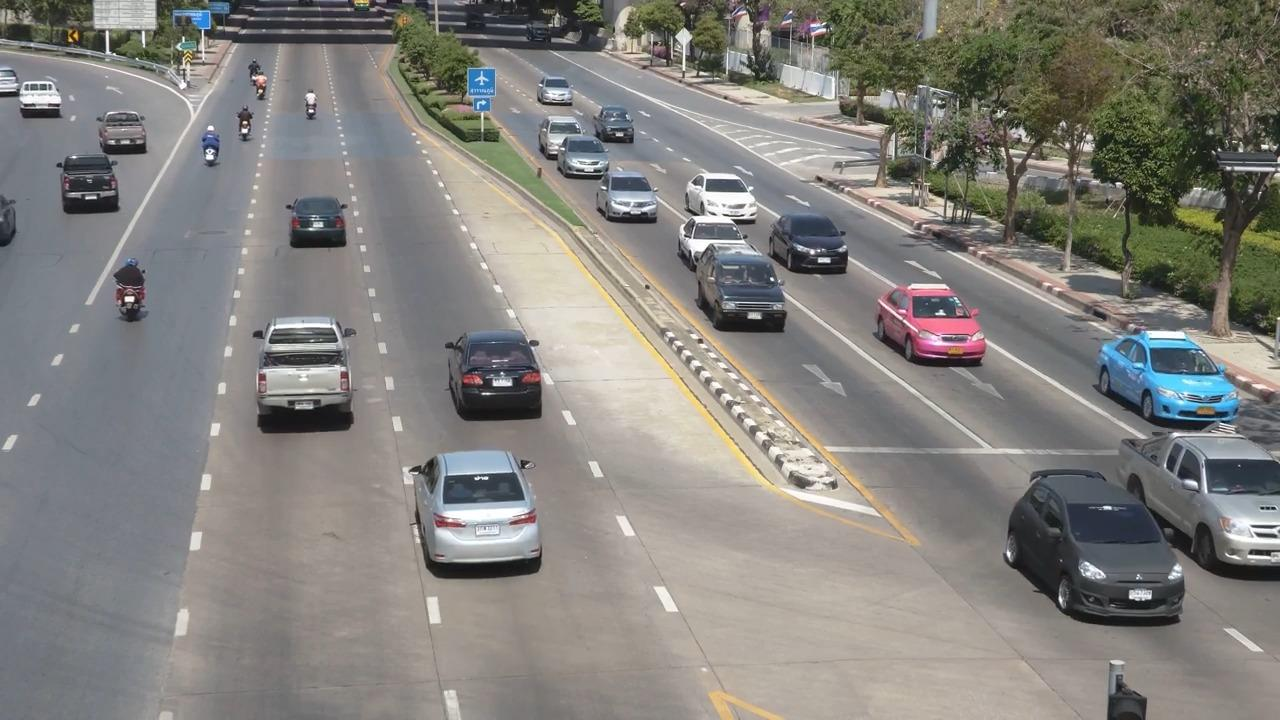CAR: (999, 448, 1196, 627), (1116, 419, 1280, 579), (407, 443, 562, 595), (1075, 309, 1246, 432), (244, 308, 371, 441), (875, 273, 1004, 388), (440, 318, 552, 435), (763, 207, 873, 285), (696, 246, 793, 333), (276, 184, 370, 268), (47, 148, 135, 224), (677, 205, 751, 264), (596, 162, 663, 226), (687, 169, 762, 226), (16, 72, 71, 132), (94, 108, 154, 159), (554, 135, 608, 184), (528, 108, 581, 155), (587, 104, 640, 148), (530, 73, 570, 106)
MOTOR: (98, 248, 156, 328), (226, 104, 270, 156), (298, 82, 334, 143), (188, 121, 228, 172), (243, 72, 280, 122)
